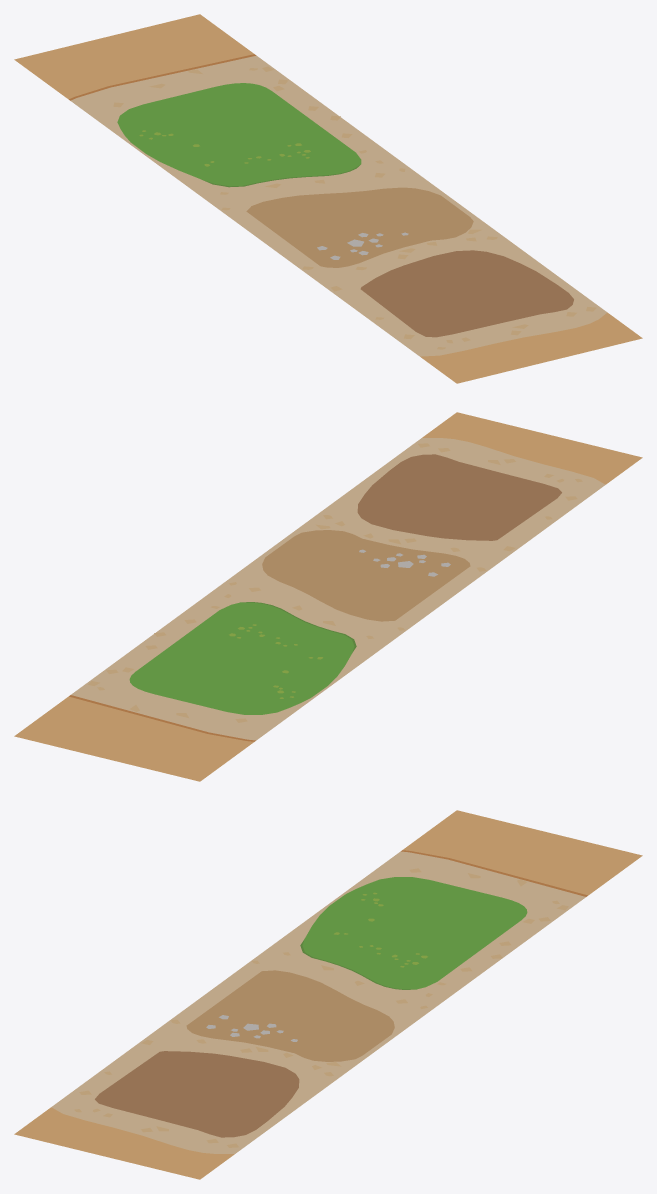
The model's file is west_kuozhan_08.FBX.
The picture shows the model from 3 angles, top to bottom: view 1: azimuth 30°, elevation 25°; view 2: azimuth 150°, elevation 25°; view 3: azimuth 330°, elevation 25°; orthographic projection.
Parts seen in each view (by area): view 1: west_kuozhan_08; view 2: west_kuozhan_08; view 3: west_kuozhan_08.
Part boxes in pixels (<box>): west_kuozhan_08: <box>14,14,642,383</box>; west_kuozhan_08: <box>14,412,642,781</box>; west_kuozhan_08: <box>14,810,642,1179</box>.
Bounding box in the file's own units: 5343 × 10.03 × 21939.
1 material, 1 textured.
